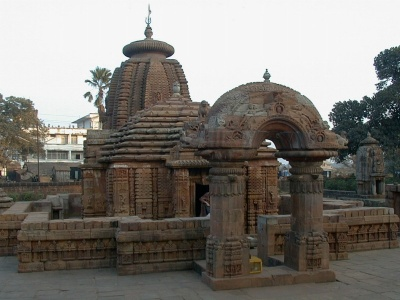amalaka: (110, 31, 183, 58)
gopuram: (93, 61, 199, 116)
torana: (208, 73, 343, 259)
